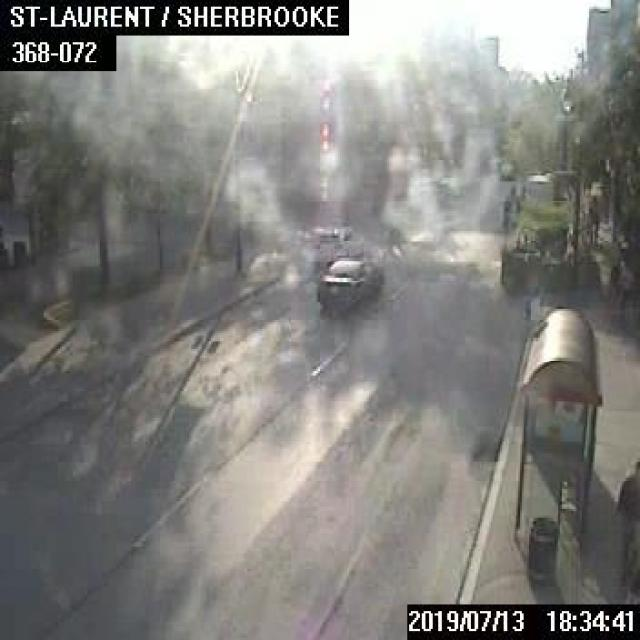pedestrian: (614, 460, 638, 572), (501, 194, 509, 227), (509, 183, 514, 197)
vehicle: (311, 256, 382, 311), (314, 226, 362, 260)
